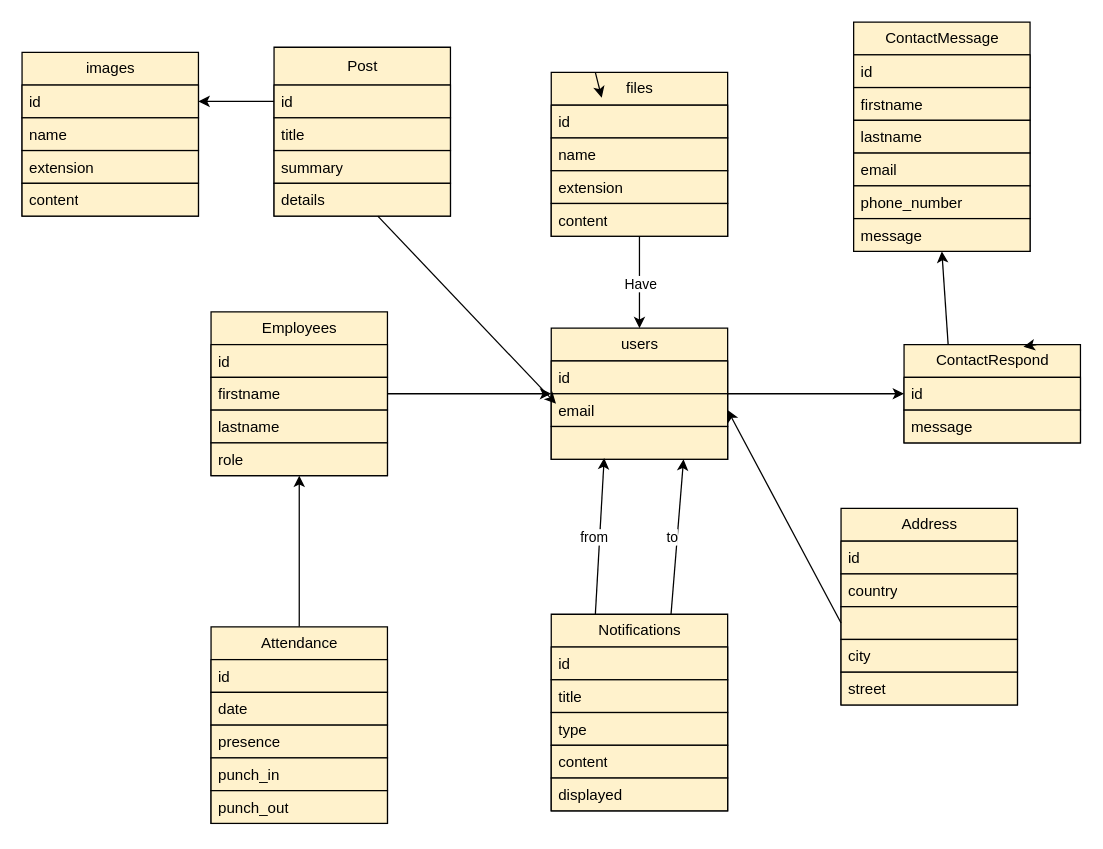
Some shapes in this 1103 by 849 pixel diagram are drawn without their labels. Each missing label, with the centre of its shape:
password: pixel 639 442
state: pixel 928 622
